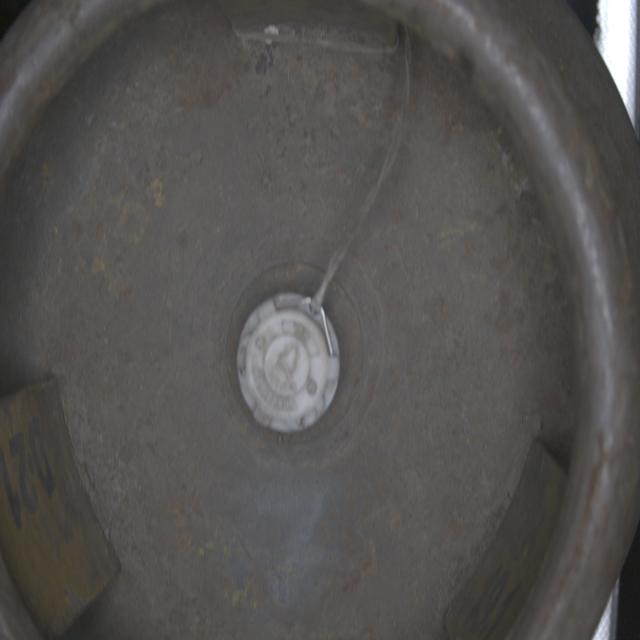Cap: (234, 290, 345, 440)
